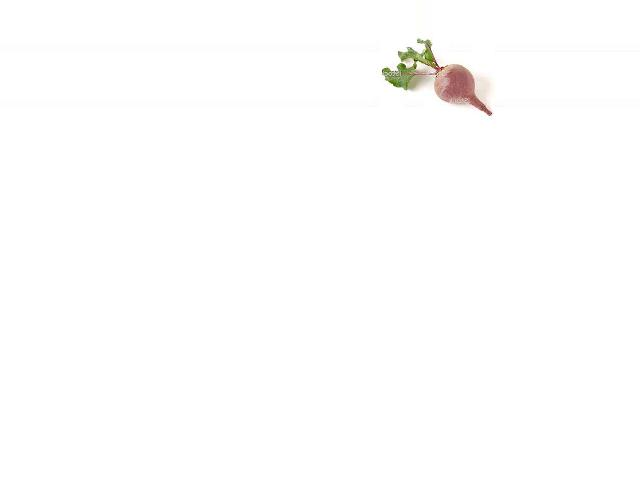beet: (381, 38, 491, 115)
